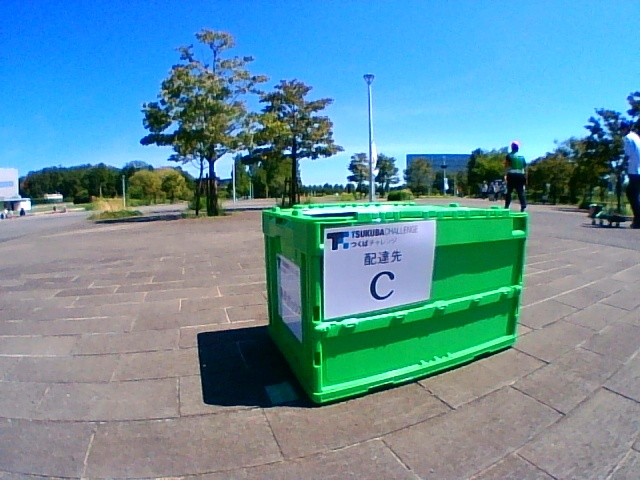green_box: (263, 202, 528, 402)
tag_c: (332, 232, 428, 300)
